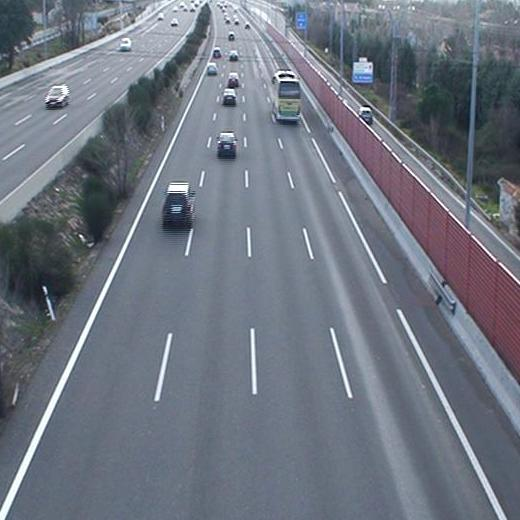bus: (270, 70, 302, 122)
car: (163, 182, 195, 226), (215, 132, 238, 158), (221, 87, 237, 107), (228, 71, 239, 87), (206, 61, 218, 75), (228, 50, 239, 62), (211, 48, 223, 59)
